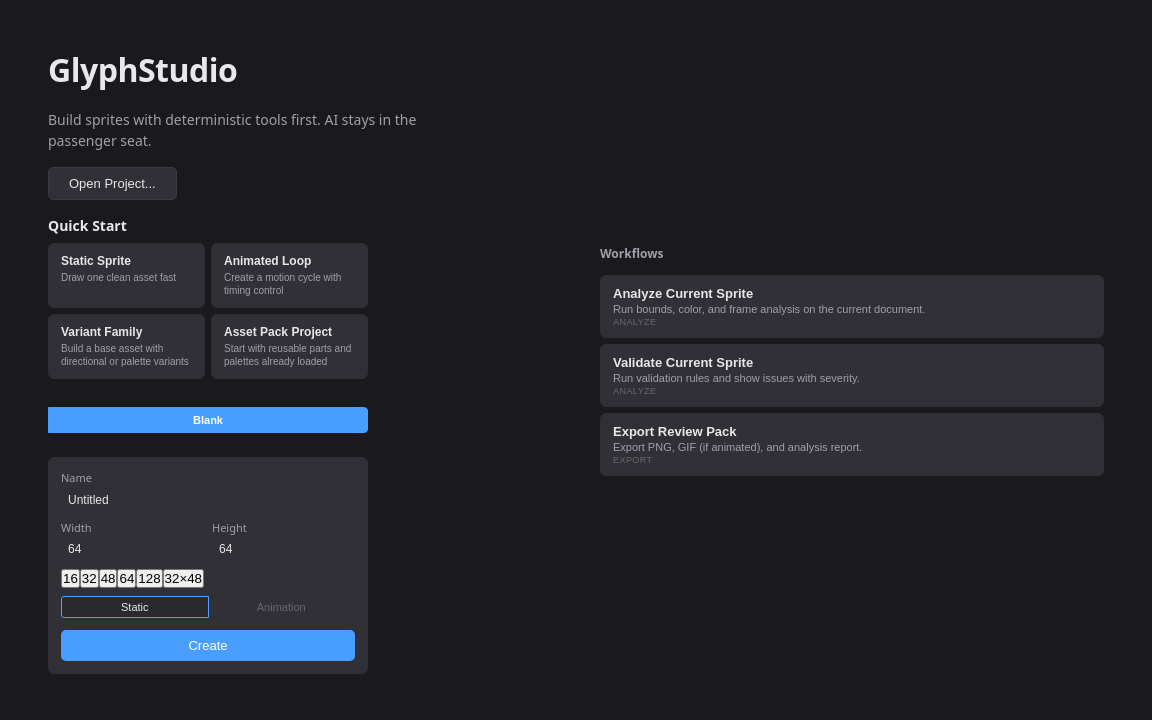
Test: ProjectHome › interactions › clicking a size preset updates width and height inputs
Click the button with test id "preset-16" at (70, 579), box [61,569,80,588]
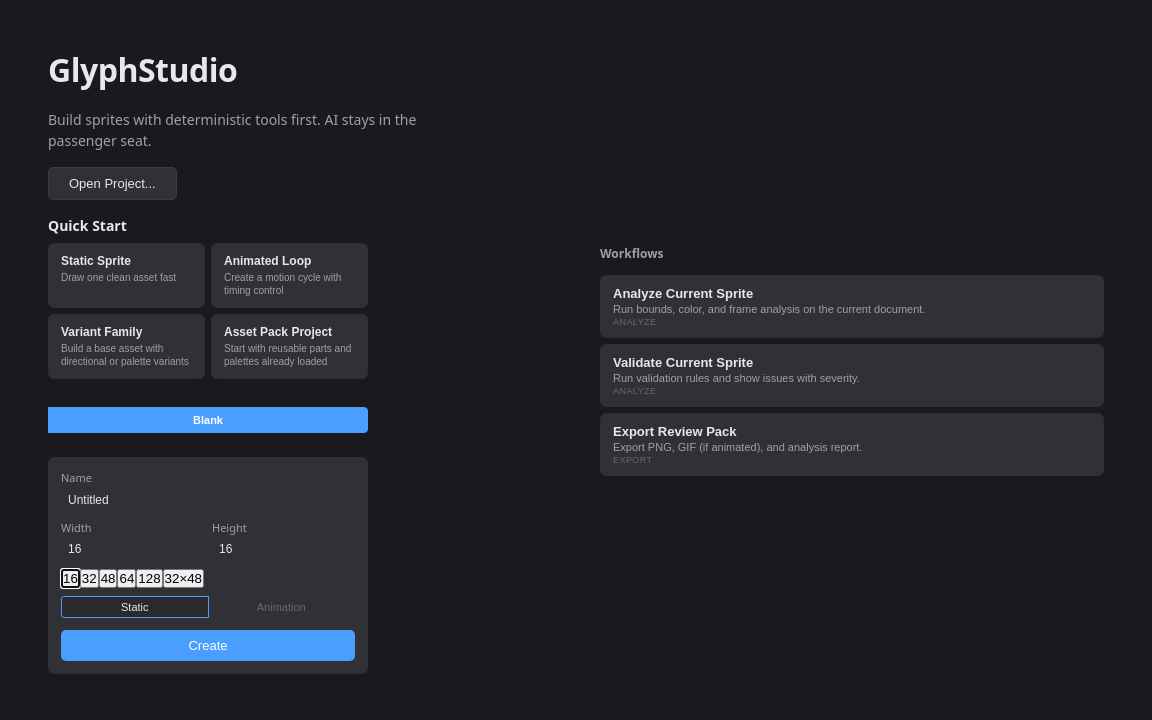
Expected: the number field with test id "create-width" holds "16", [61,537,204,561]
Expected: the number field with test id "create-height" holds "16", [212,537,355,561]
